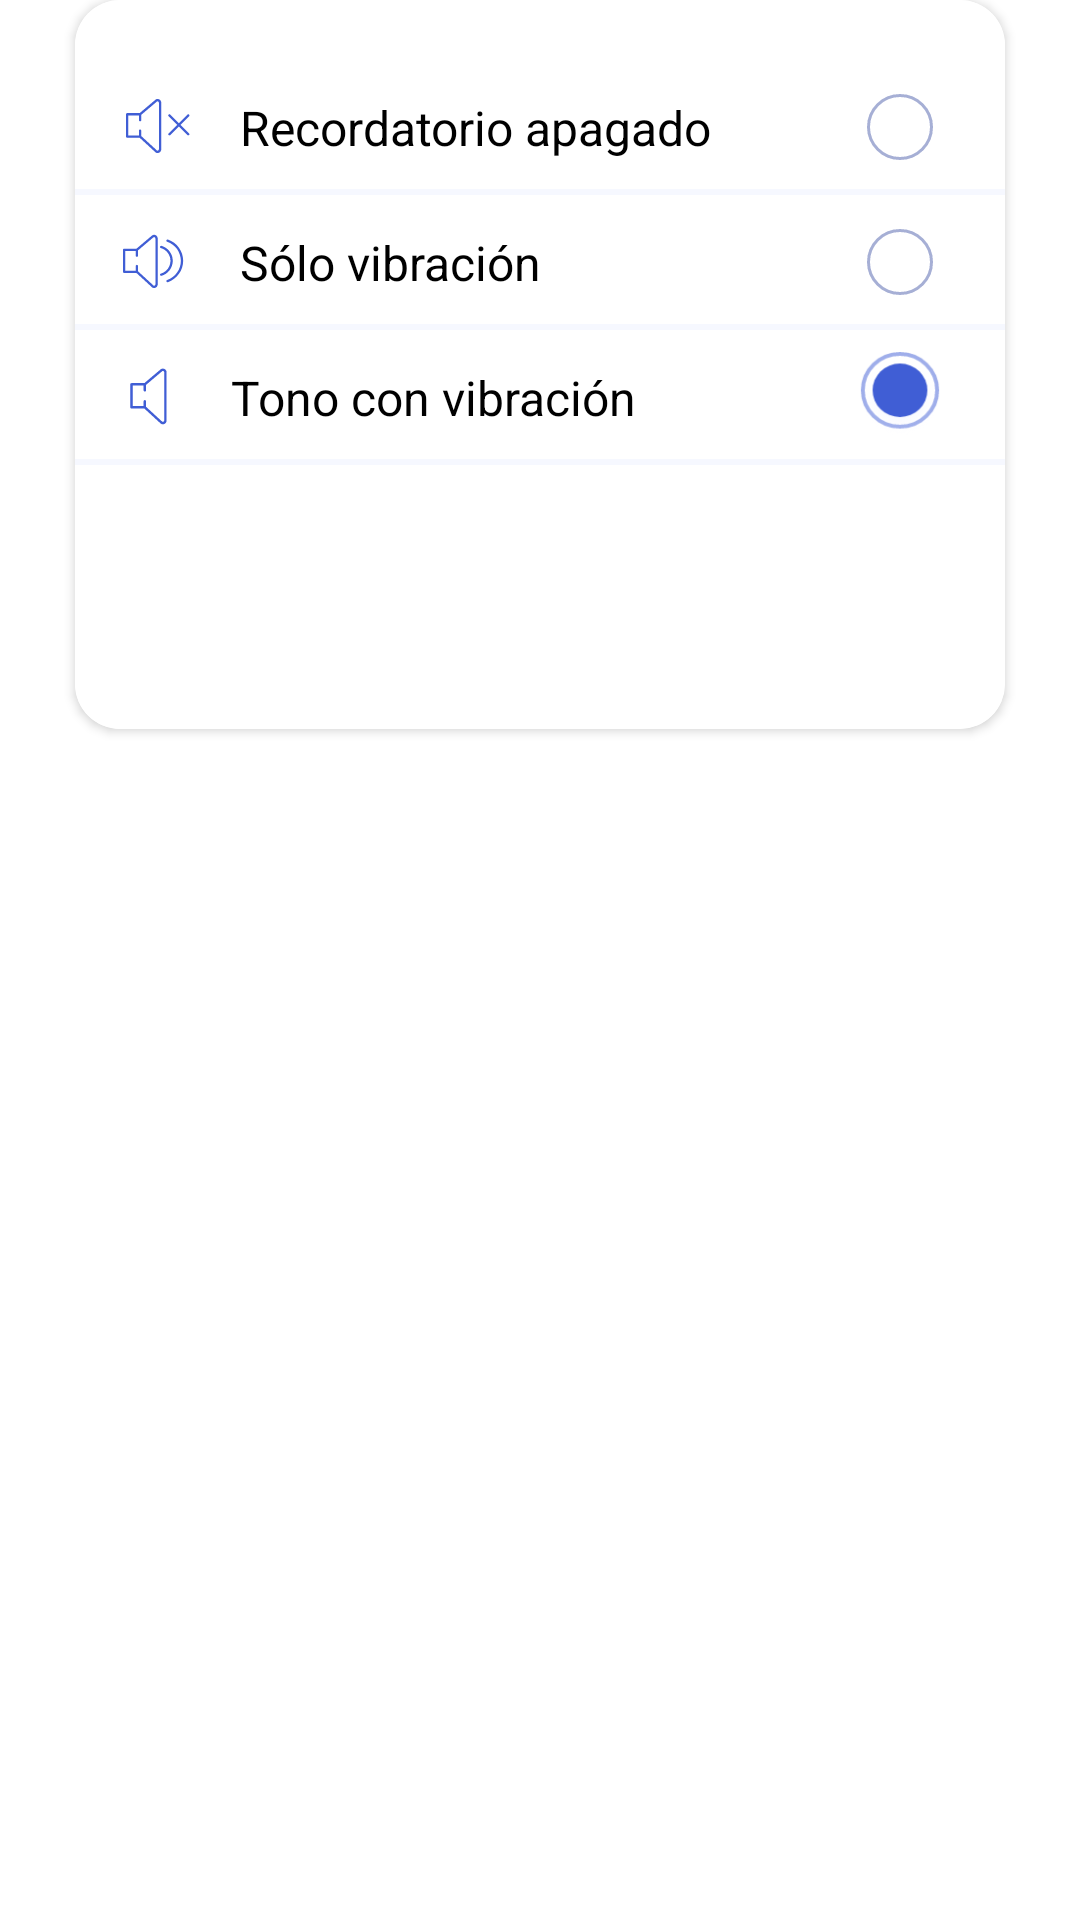

Icons on this 1080x1920 Android screen, each with its box as (x1=x1, y1=y1, x2=x2, y2=y2):
reminderoff: (x1=126, y1=99, x2=190, y2=153)
